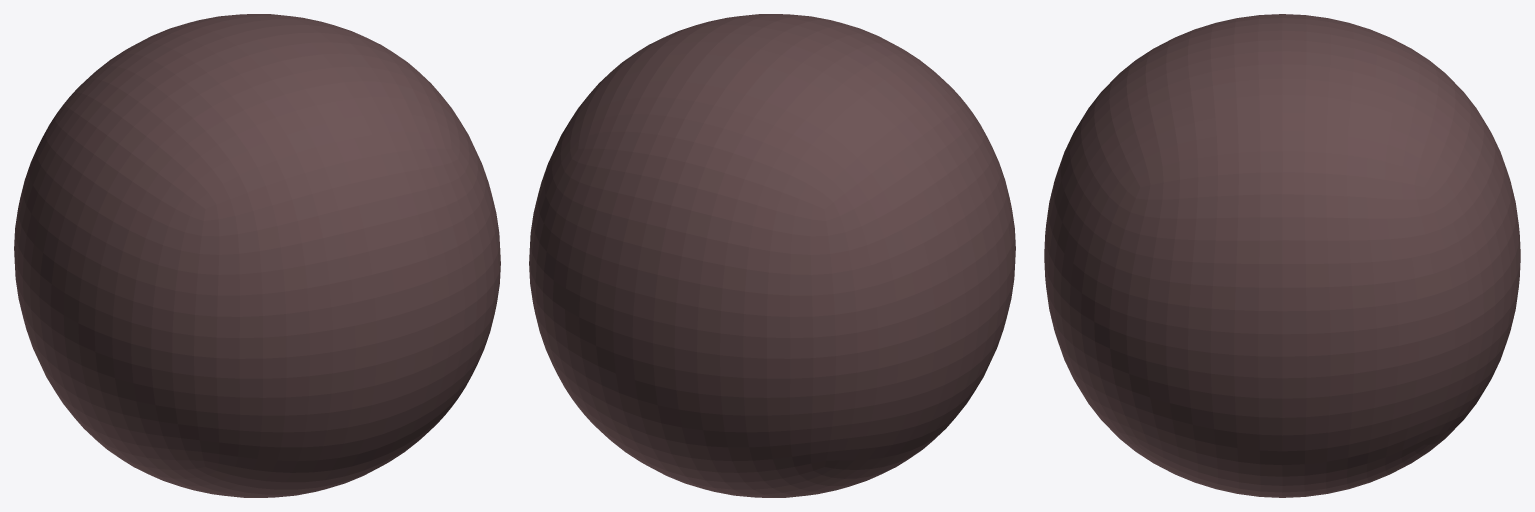
The model's file is unAsteroide.gltf.
3 views of the same model, side by side, from view 1: azimuth 30°, elevation 25°; view 2: azimuth 150°, elevation 25°; view 3: azimuth 270°, elevation 25° (orthographic).
Parts seen in each view (by area): view 1: Cube; view 2: Cube; view 3: Cube.
Part boxes in pixels (x1=…): Cube: x1=14, y1=14, x2=500, y2=497; Cube: x1=529, y1=14, x2=1015, y2=497; Cube: x1=1044, y1=14, x2=1520, y2=497.
Size of the model in its own units: 18.79 by 18.79 by 18.79.
